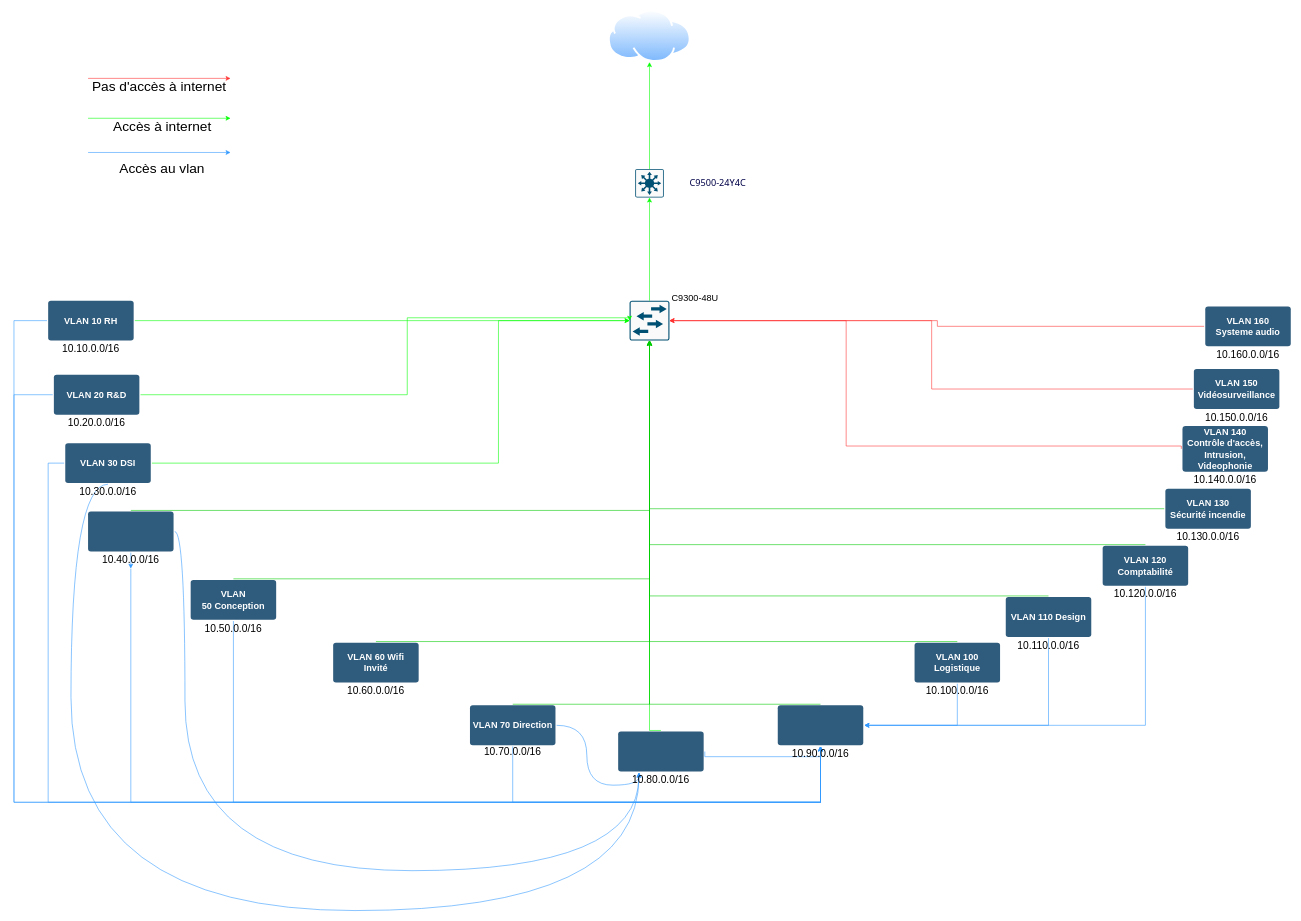
Some shapes in this 1301 by 921 pixel diagram are drawn without their labels. The centre of each missing label's shape, as x and y in pixels:
"Internet" belongs at (649,36).
"VLAN 40 Dev" belongs at (130,531).
"VLAN 80 Data" belongs at (660,751).
"VLAN 90 Imprimantes" belongs at (820,725).
